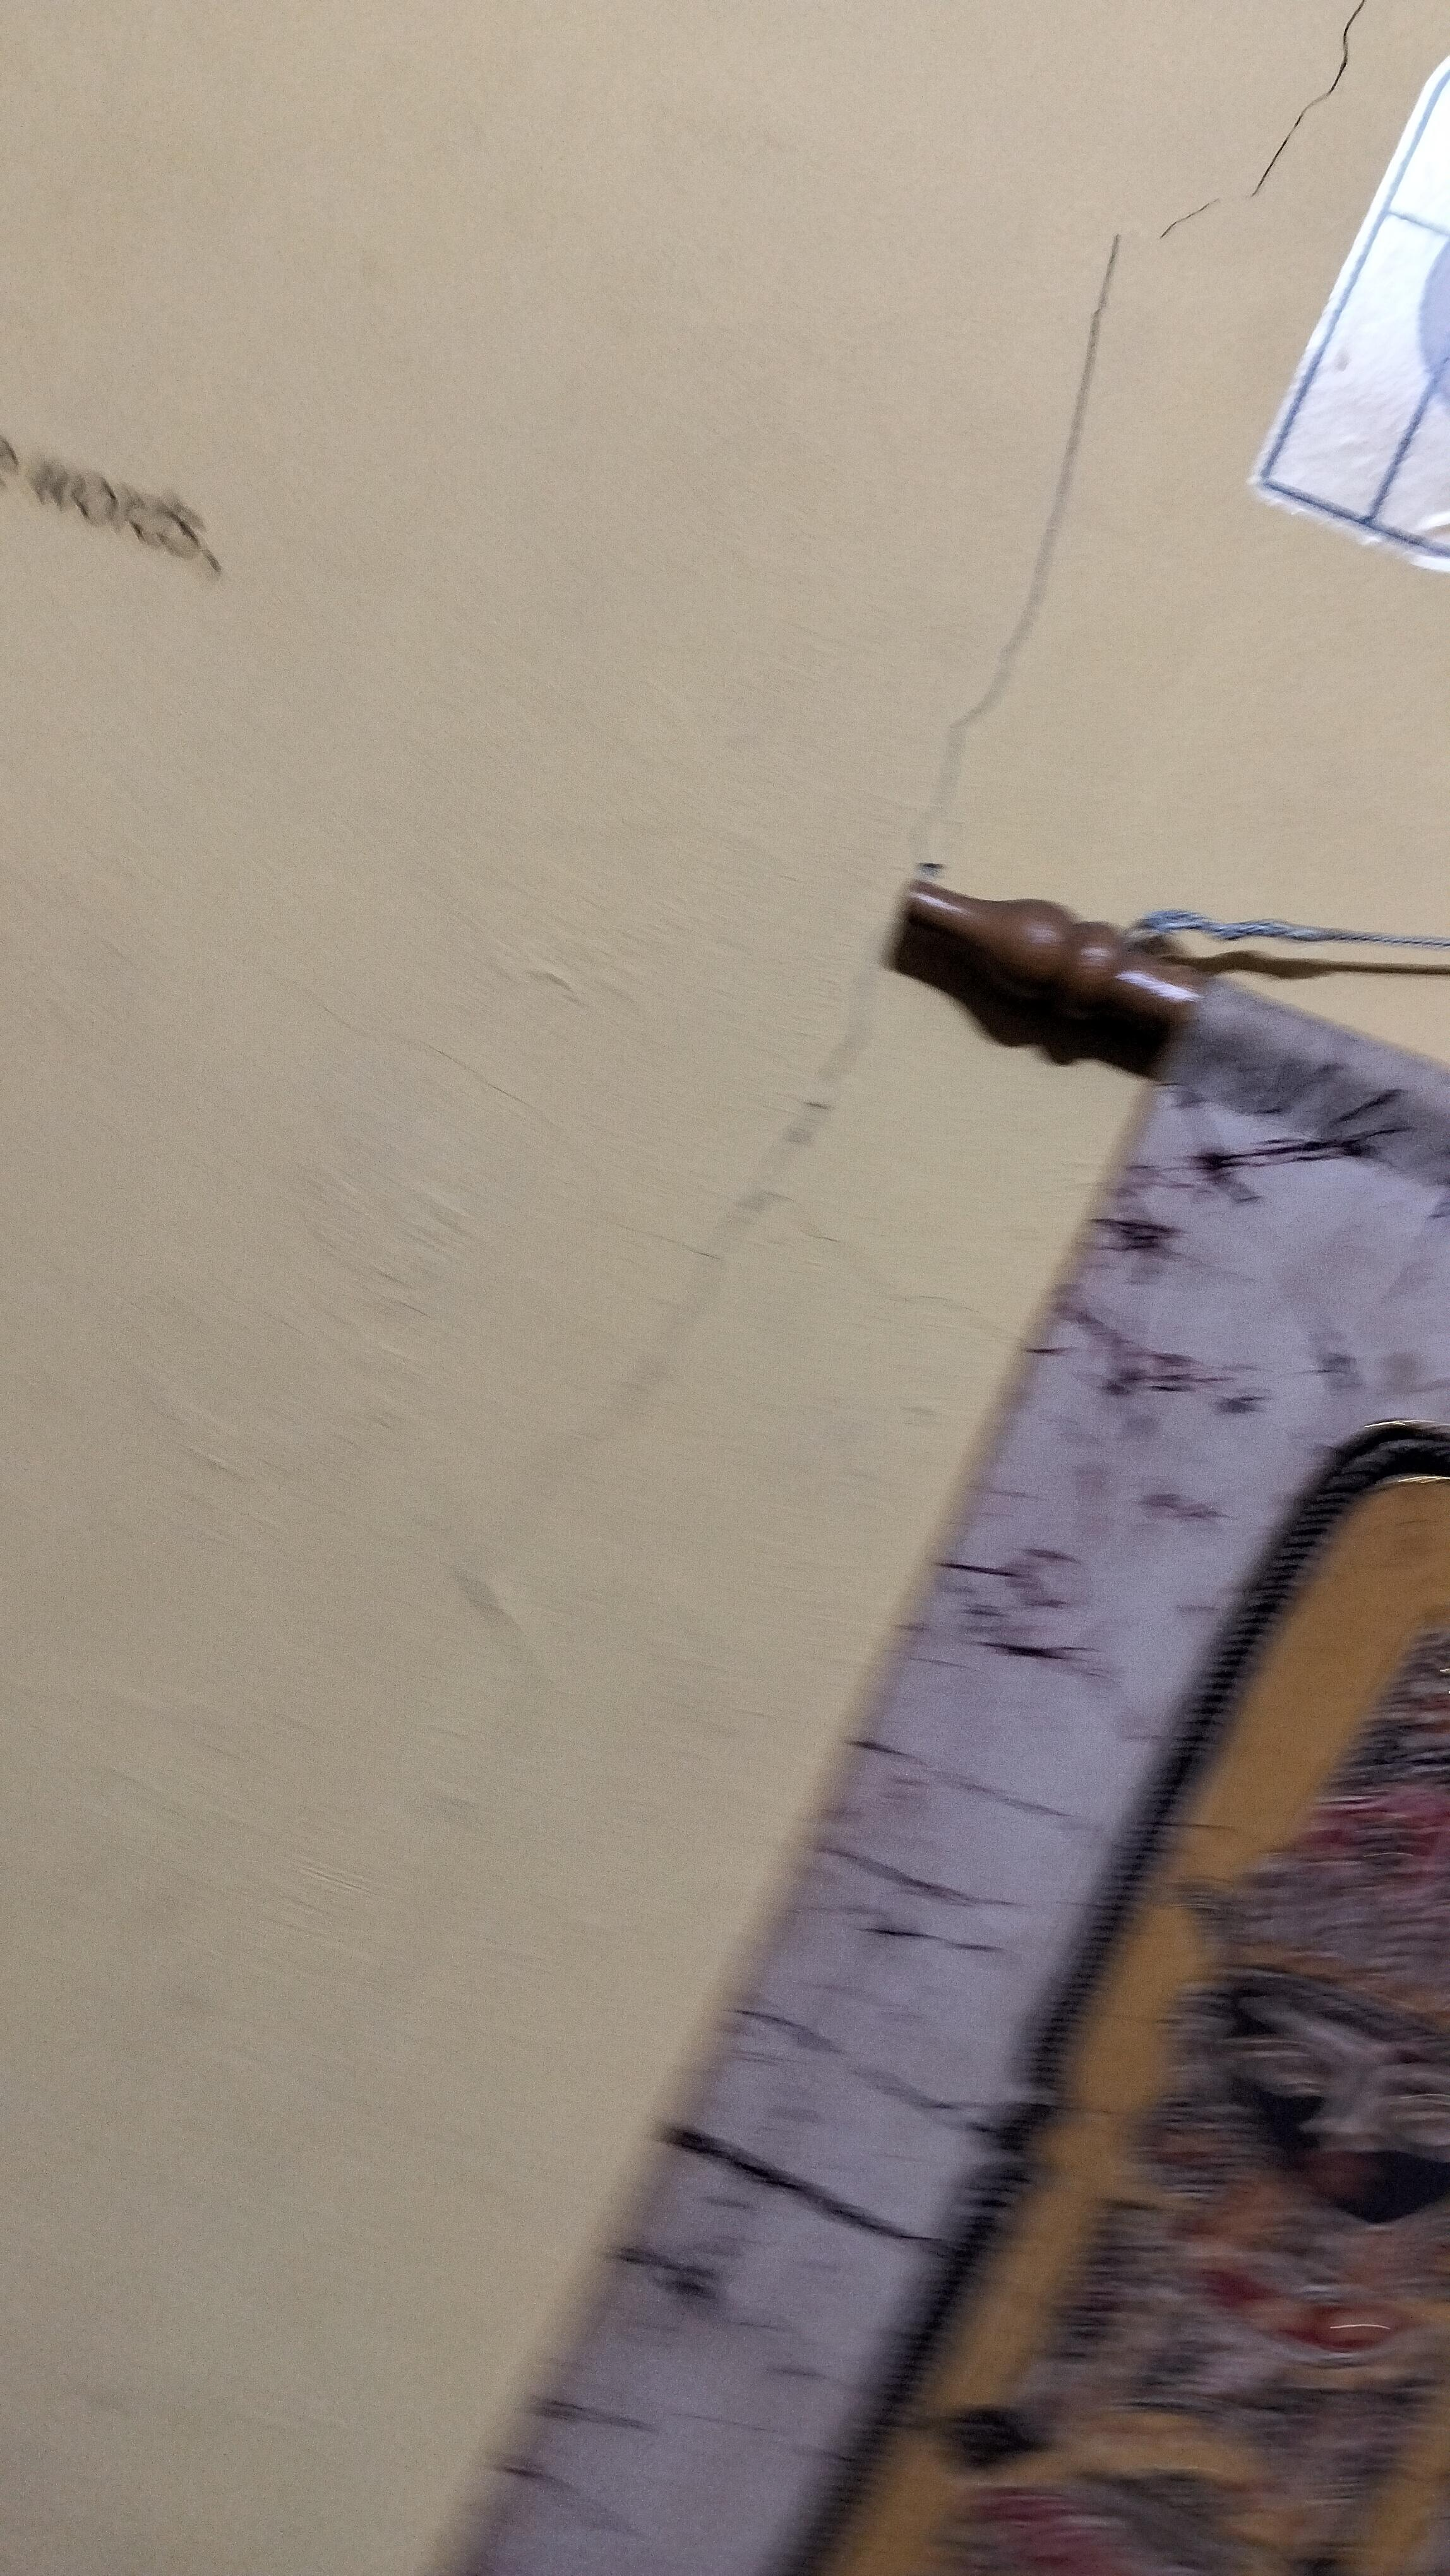Crack: (483, 978, 906, 1560), (899, 225, 1170, 878), (1087, 0, 1384, 251)
